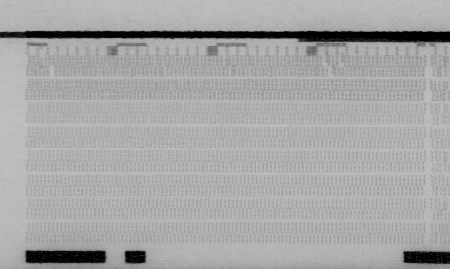Broken hole: (47, 65, 57, 78)
Oblique printing: (317, 51, 347, 80), (219, 51, 231, 68), (228, 64, 239, 79), (37, 54, 46, 70)
